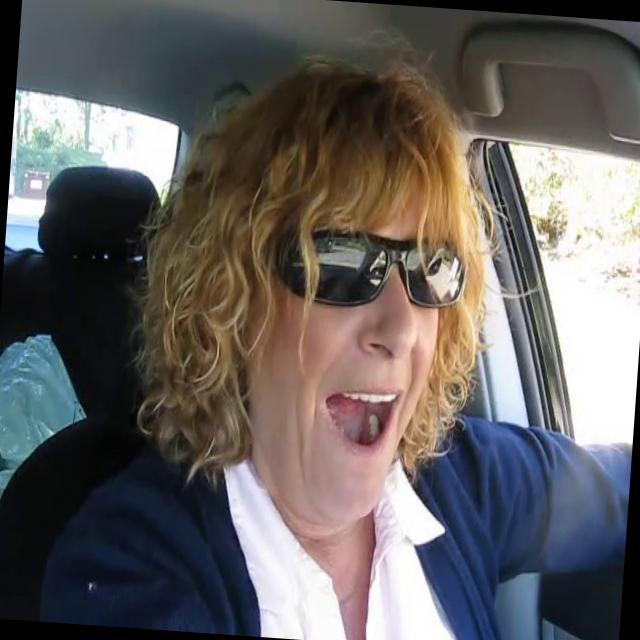Yawning: (320, 376, 407, 456)
